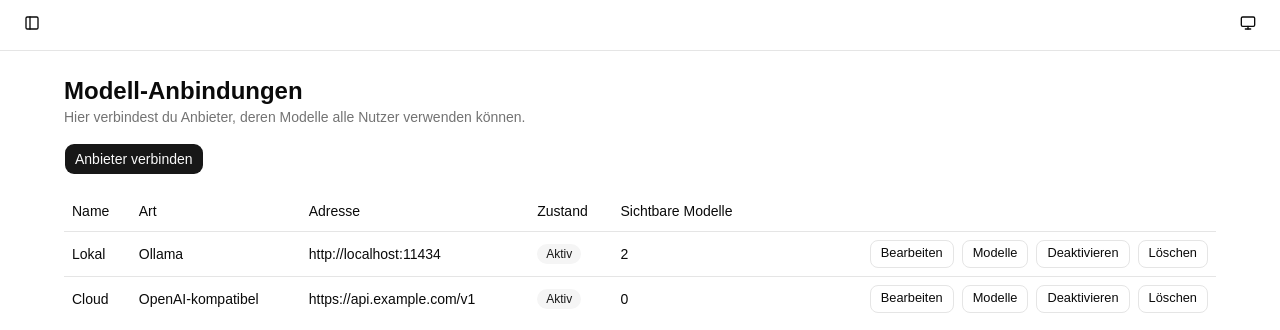
Test case: AdminConnectionsPage: enable and disable › disables a connection and refreshes the list and the model list
The image size is (1280, 330).
expect the heading "Modell-Anbindungen" is shown: met, box [64,77,303,104]
Click the button with aria-label "Lokal deaktivieren": (1083, 254) [1036,240,1130,268]
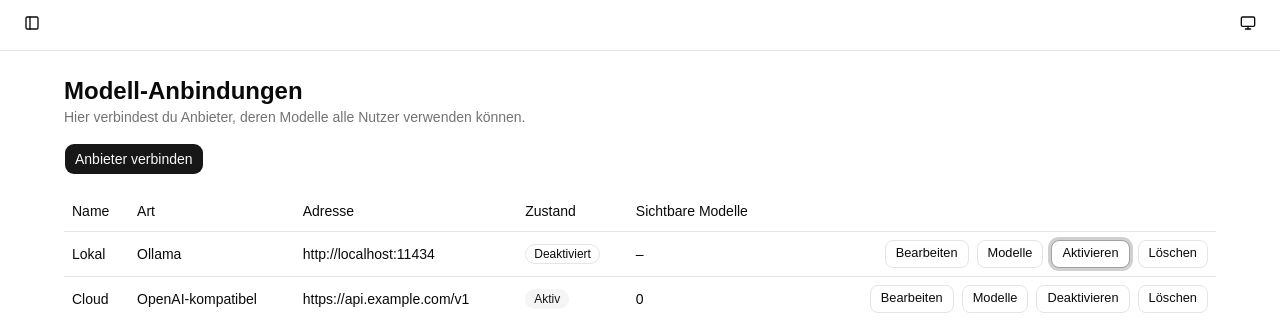
expect the text "Deaktiviert" is shown: met, box [525,244,600,264]
expect the button with aria-label "Lokal aktivieren" is shown: met, box [1051,240,1130,268]
